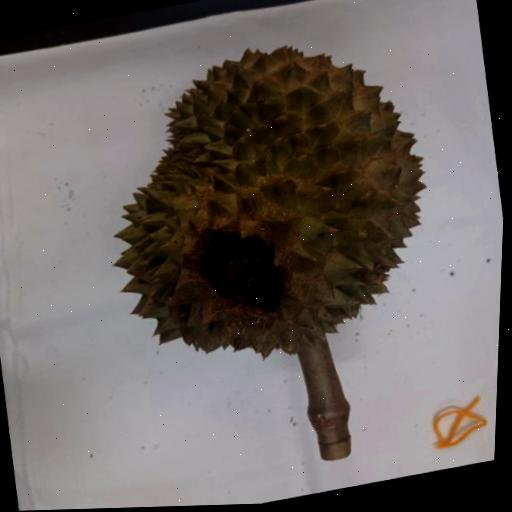rot: (36, 0, 512, 510)
